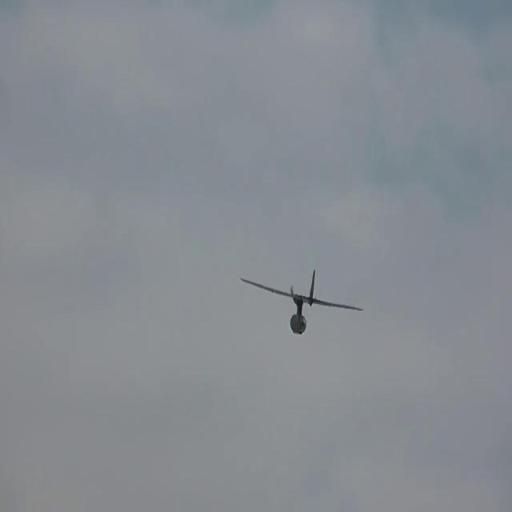uav: (240, 272, 362, 330)
